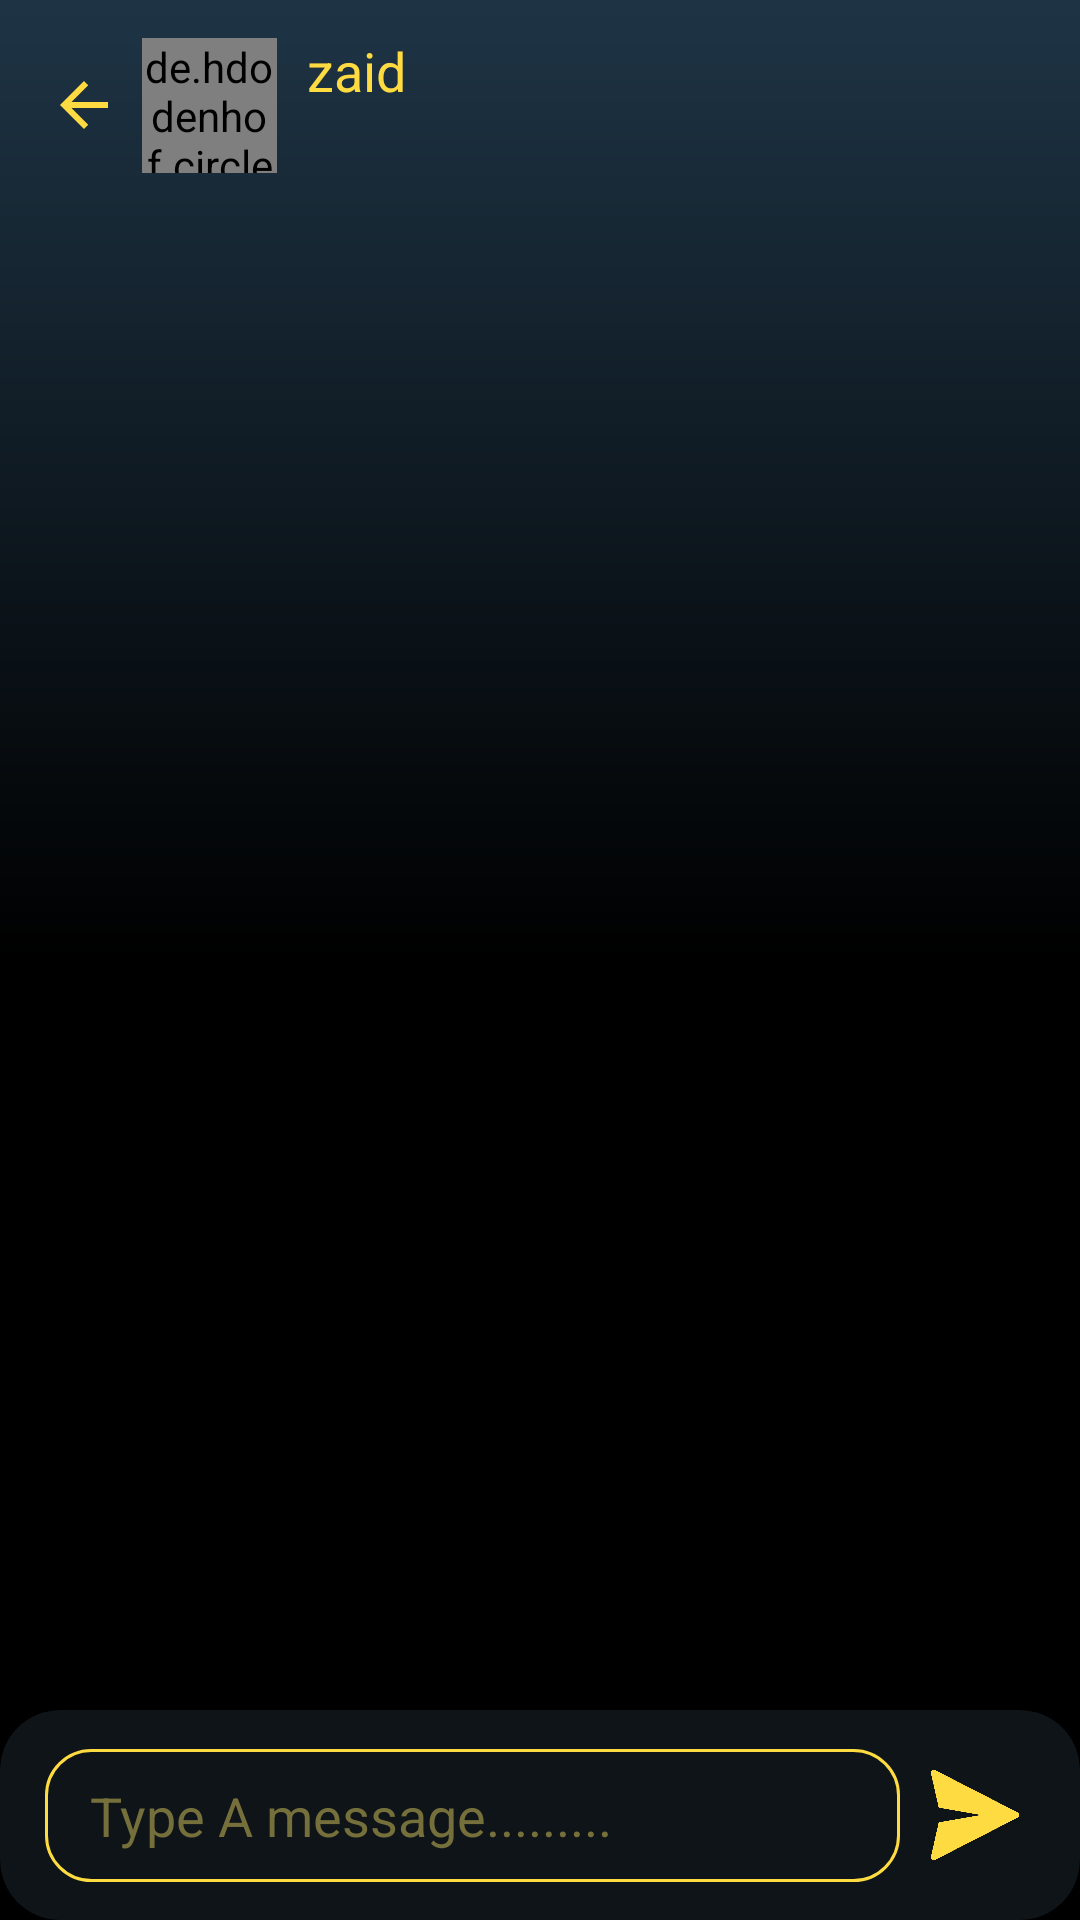

Icons on this 1080 x 1920 Android screen, each with its box as (x1, y1, x2, y2):
sendmessage: (931, 1770, 1019, 1860)
